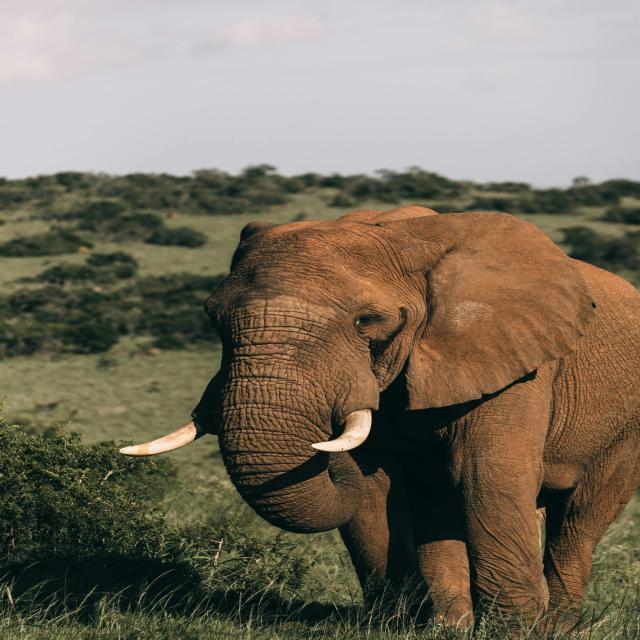Elephant: (118, 204, 640, 634)
